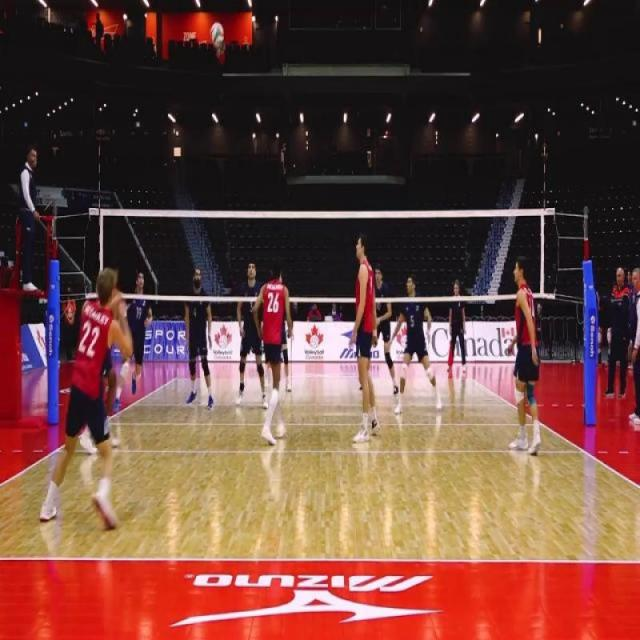volleyball: (210, 21, 224, 48)
